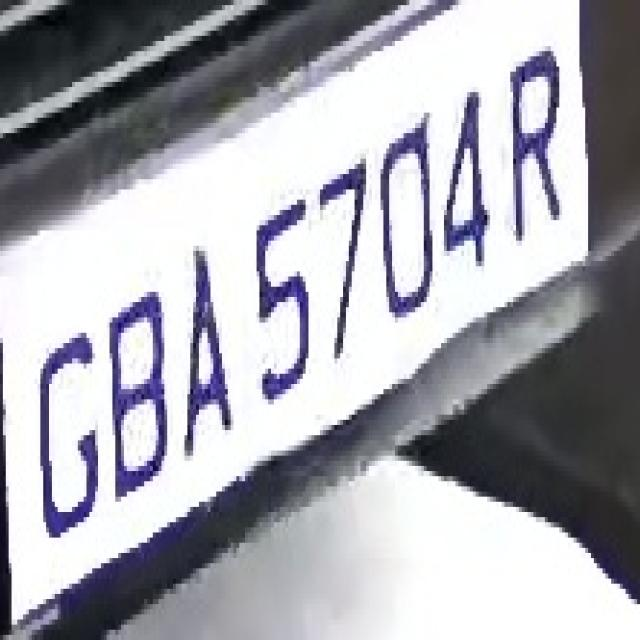0: (375, 118, 444, 333)
4: (435, 77, 496, 292)
5: (245, 179, 320, 420)
7: (303, 148, 369, 368)
A: (170, 225, 239, 471)
B: (95, 282, 176, 492)
G: (32, 312, 106, 538)
R: (502, 31, 570, 251)
